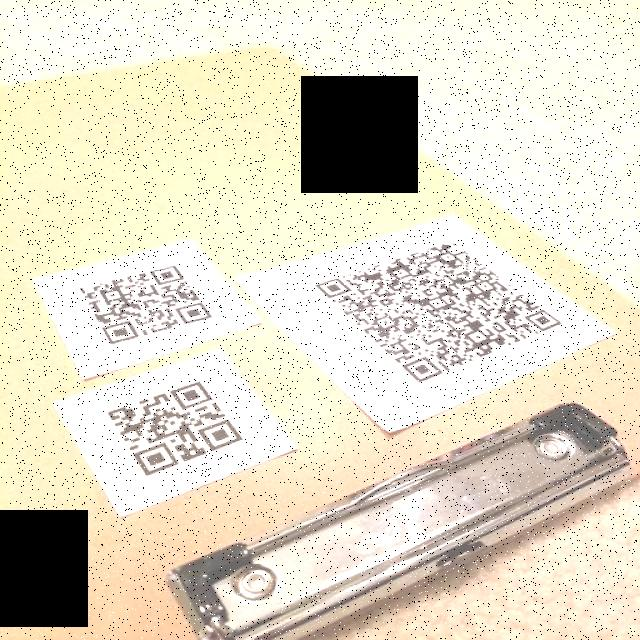QR_CODE: (308, 232, 566, 388), (92, 372, 266, 482), (64, 250, 232, 350)
